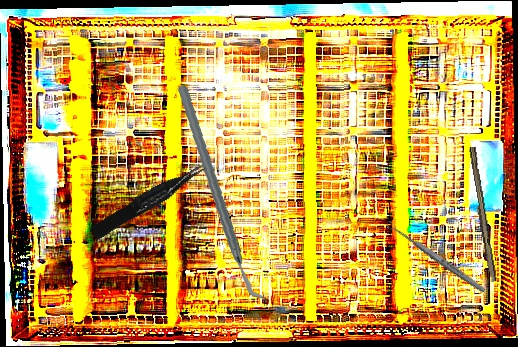Chopper: (158, 85, 285, 303)
Scalpel Handle: (464, 146, 500, 283)
Surgical Spoon: (385, 219, 487, 295)
Tissue Forceps: (86, 161, 212, 241)
